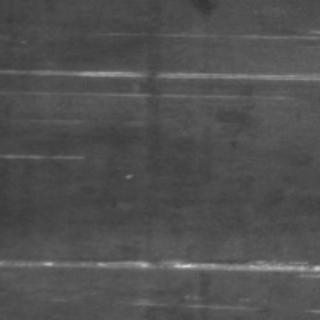scratches: (40, 252, 316, 280), (0, 58, 312, 82)
